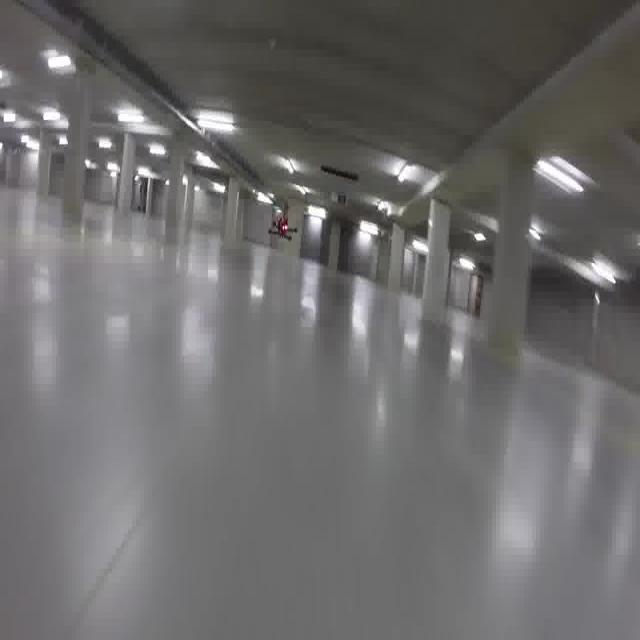Drone_FW: (265, 212, 301, 245)
